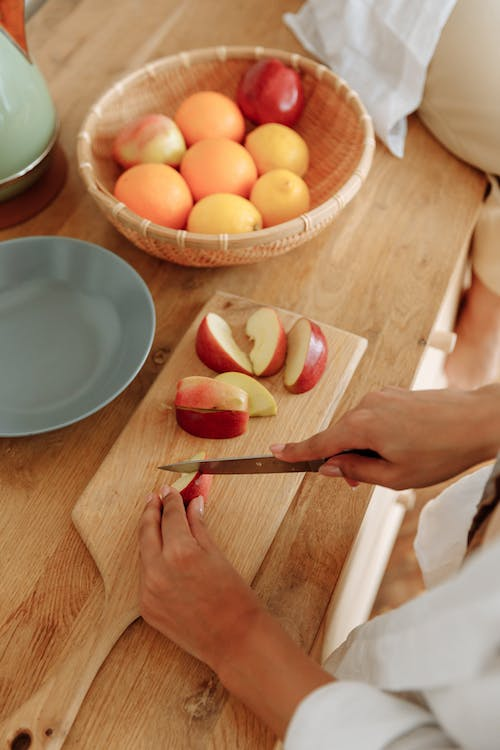knife: (153, 455, 333, 478)
